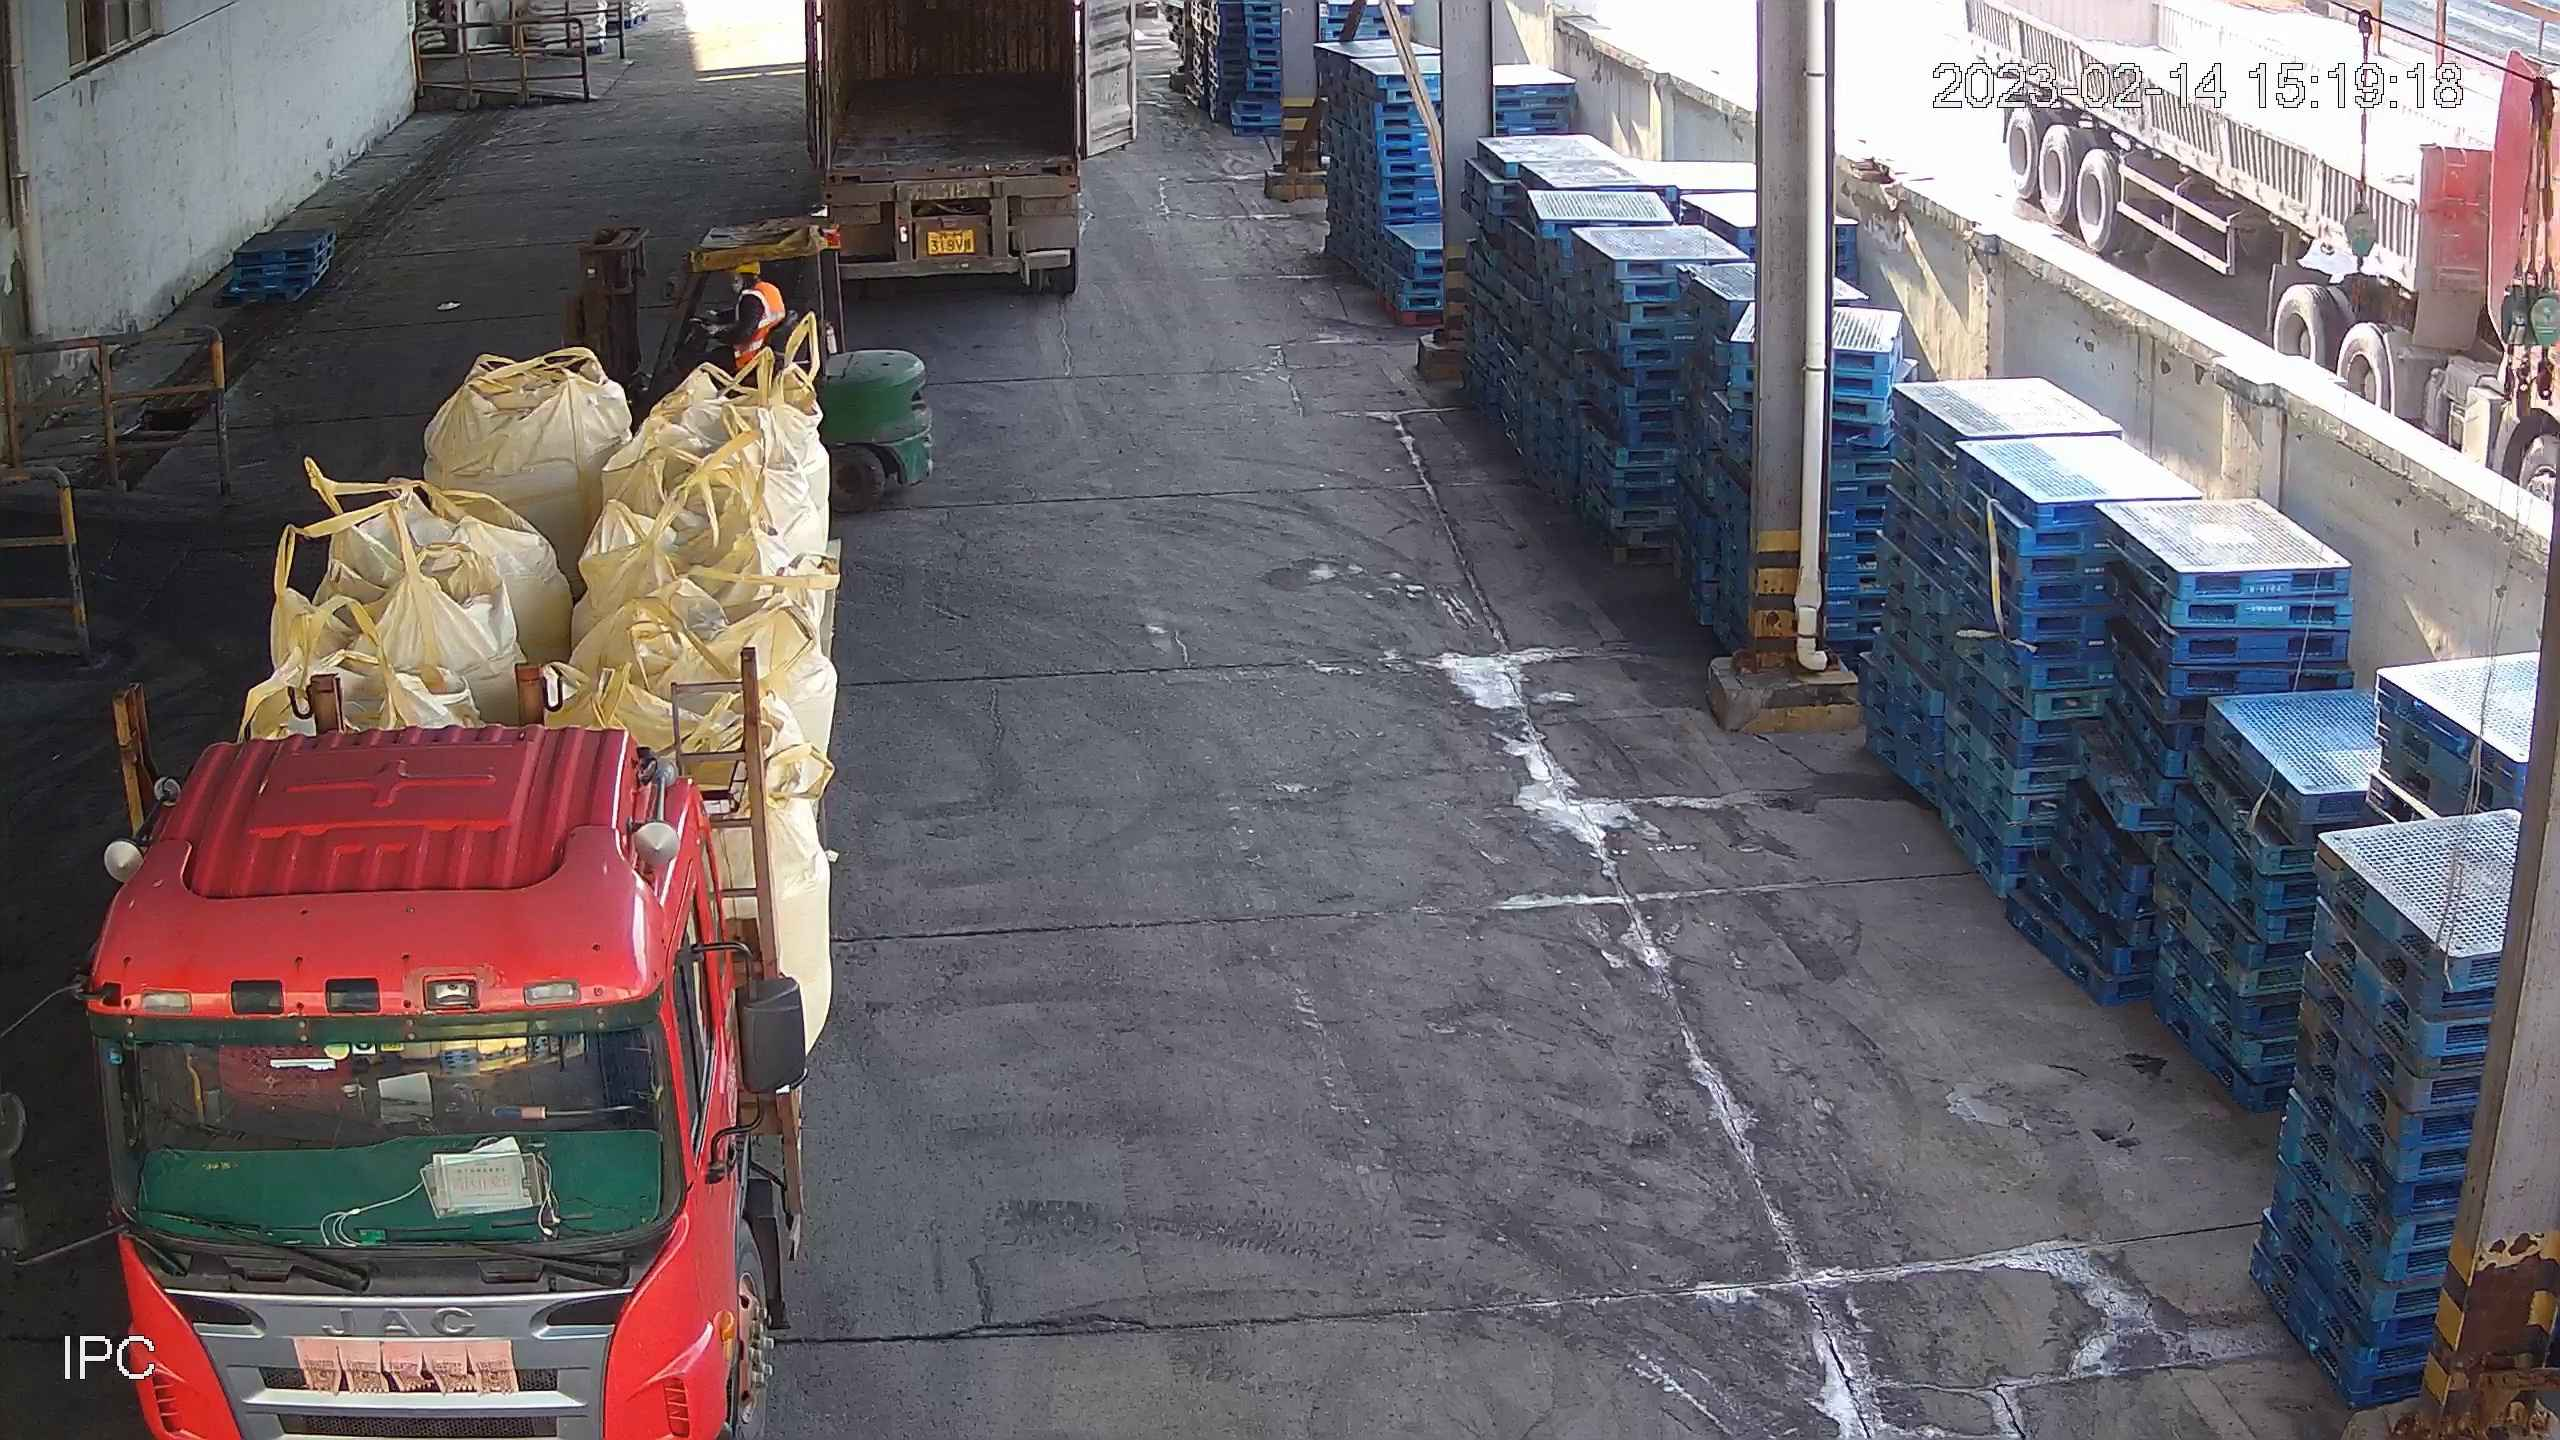head: (710, 259, 799, 372)
truck: (69, 350, 847, 1440), (805, 1, 1109, 308)
